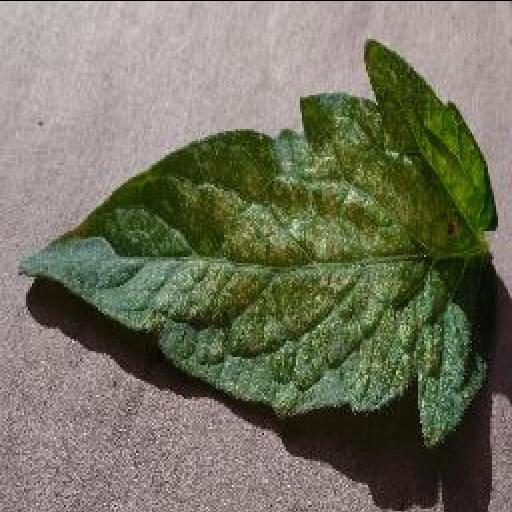disease_tomato: (18, 34, 500, 448)
